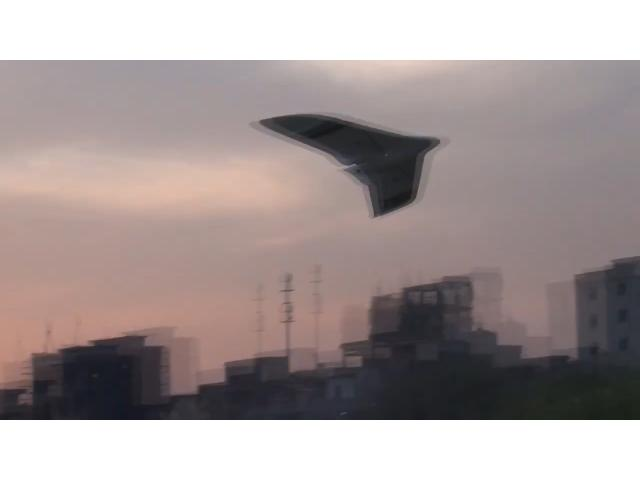Anti-Drone: (260, 113, 440, 218)
